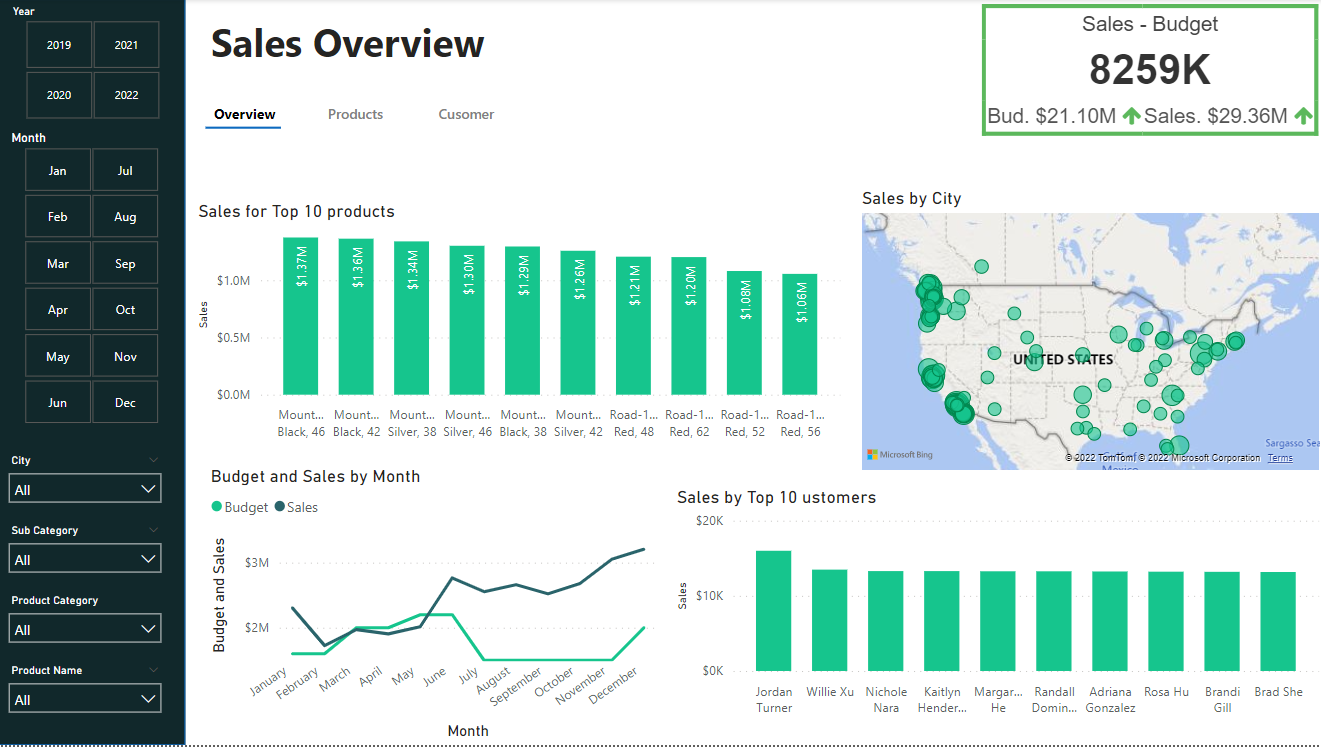

The page's visual inventory and layout, read from the dashboard file:
{"tool":"powerbi","page":{"name":"Overview","canvas":[1280,720],"ordinal":0},"visuals":[{"type":"textbox","box":[200.5,11,289.8,63.2],"z":0},{"type":"shape","box":[0,0,180.9,720],"z":1000},{"type":"slicer","fields":{"Values":["Customer.City"]},"box":[0,433,167.6,53.1],"z":2000},{"type":"slicer","fields":{"Values":["Product.Product Category"]},"box":[0,568,167.6,53.1],"z":3000},{"type":"slicer","fields":{"Values":["Product.Sub Category"]},"box":[0,500.5,167.6,53.1],"z":4000},{"type":"slicer","fields":{"Values":["Product.Product Name"]},"box":[0,635.6,167.6,53.1],"z":5000},{"type":"pageNavigator","box":[189.5,100.3,313.1,22],"z":6000},{"type":"shape","box":[200.5,111.2,72.8,26.1],"z":7000},{"type":"BBED0A4D4D8D44CE93CF2DAFADEE466C","fields":{"target1":["_Measures.Budget"],"actual":["_Measures.Sales - Budget"],"target2":["_Measures.Sales"]},"box":[944.9,0,335.1,137.3],"z":8000},{"type":"lineChart","fields":{"Y":["_Measures.Budget","_Measures.Sales"],"Category":["Calendar.Date.Variation.Date Hierarchy.Year","Calendar.Date.Variation.Date Hierarchy.Quarter","Calendar.Date.Variation.Date Hierarchy.Month","Calendar.Date.Variation.Date Hierarchy.Day"]},"box":[200.2,449.8,440.2,270.2],"z":9000},{"type":"slicer","fields":{"Values":["Calendar.Year"]},"box":[1.2,0,178.5,121.8],"z":10000},{"type":"slicer","fields":{"Values":["Calendar.ShortMon"]},"box":[0,121.8,178.5,294.3],"z":11000},{"type":"columnChart","title":"Sales for Top 10 products","fields":{"Category":["Product.Product Name"],"Y":["_Measures.Sales"]},"box":[188.1,194.2,629.5,238.8],"z":12000},{"type":"map","fields":{"Category":["Customer.City"],"Size":["_Measures.Sales"]},"box":[828.5,182.1,451.1,277.4],"z":13000},{"type":"columnChart","title":"Sales by Top 10 ustomers","fields":{"Category":["Customer.Full Name"],"Y":["_Measures.Sales"]},"box":[650.1,470.4,629.5,229.1],"z":14000}]}

Visuals, with their boxes in screenshot pixels (x1, y1, x2, y2), scaled from the page's 1280x720 canvas onto the 1321x747 screenshot:
textbox: 207,11,506,77
shape: 0,0,187,746
slicer - Customer.City: 0,449,173,504
slicer - Product.Product Category: 0,589,173,644
slicer - Product.Sub Category: 0,519,173,574
slicer - Product.Product Name: 0,659,173,715
pageNavigator: 196,104,519,127
shape: 207,115,282,142
BBED0A4D4D8D44CE93CF2DAFADEE466C - _Measures.Budget x _Measures.Sales - Budget: 975,0,1320,142
lineChart - _Measures.Budget x _Measures.Sales: 207,467,661,746
slicer - Calendar.Year: 1,0,185,126
slicer - Calendar.ShortMon: 0,126,184,432
"Sales for Top 10 products" columnChart: 194,201,844,449
map - Customer.City x _Measures.Sales: 855,189,1320,477
"Sales by Top 10 ustomers" columnChart: 671,488,1320,726
